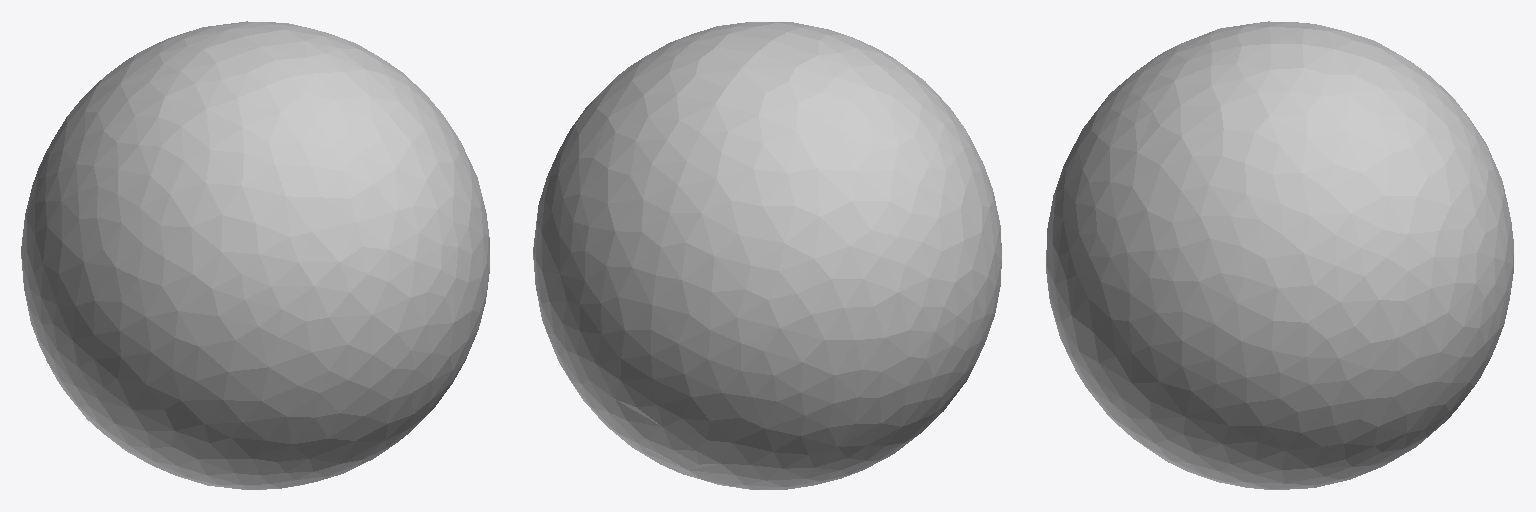
File: PolySphere3percentDEC.OBJ
3 views of the same model, side by side, from view 1: azimuth 30°, elevation 25°; view 2: azimuth 150°, elevation 25°; view 3: azimuth 270°, elevation 25° (orthographic).
Visible parts, largest first — view 1: Group12029; view 2: Group12029; view 3: Group12029.
Part boxes in pixels (bbox=[...]): Group12029: bbox=[21, 21, 489, 489]; Group12029: bbox=[533, 22, 1001, 489]; Group12029: bbox=[1046, 21, 1513, 489].
Bounding box in the file's own units: 1.3 × 1.29 × 1.29.